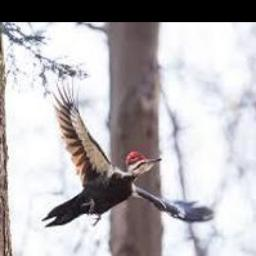Woodpecker: (42, 78, 215, 227)
